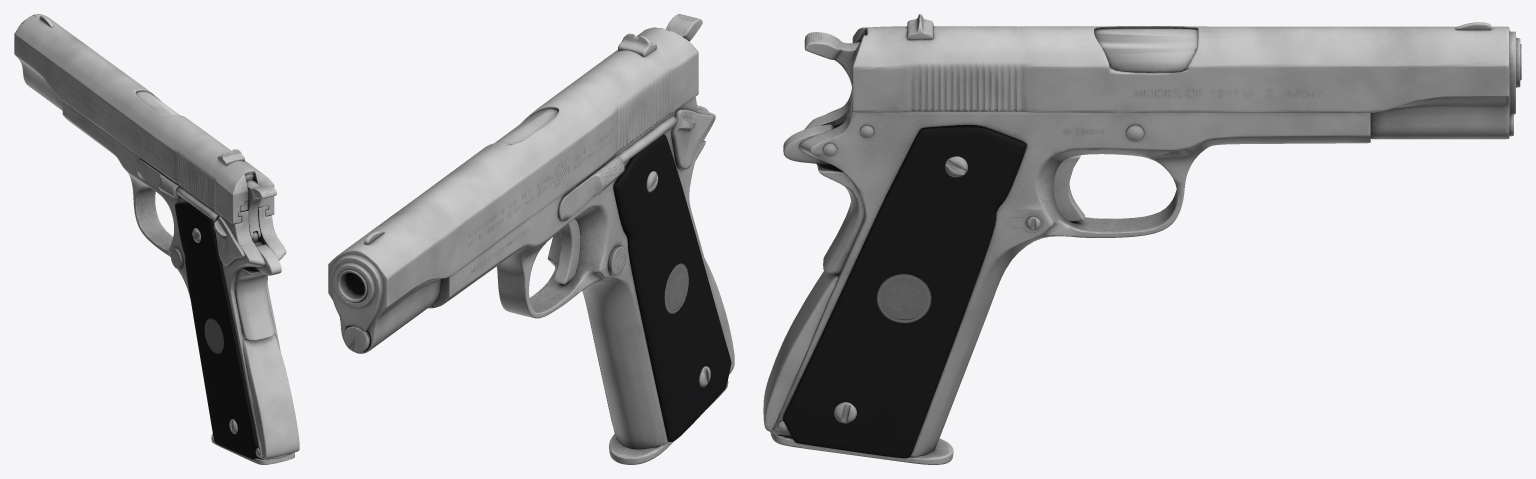
3 renders of one model, left to right at view 1: azimuth 30°, elevation 25°; view 2: azimuth 150°, elevation 25°; view 3: azimuth 270°, elevation 25°, orthographic. The views are drawn at different scales.
Visible parts, largest first — view 1: grip_cover_high_Material_0; view 2: grip_cover_high_Material_0; view 3: grip_cover_high_Material_0.
Part boxes in pixels (x1,y1,x2,y2): grip_cover_high_Material_0: [14, 14, 299, 464]; grip_cover_high_Material_0: [328, 14, 734, 464]; grip_cover_high_Material_0: [763, 14, 1521, 464].
Size of the model in its own units: 0.0225 by 0.1231 by 0.1923.
1 material, 1 textured.
